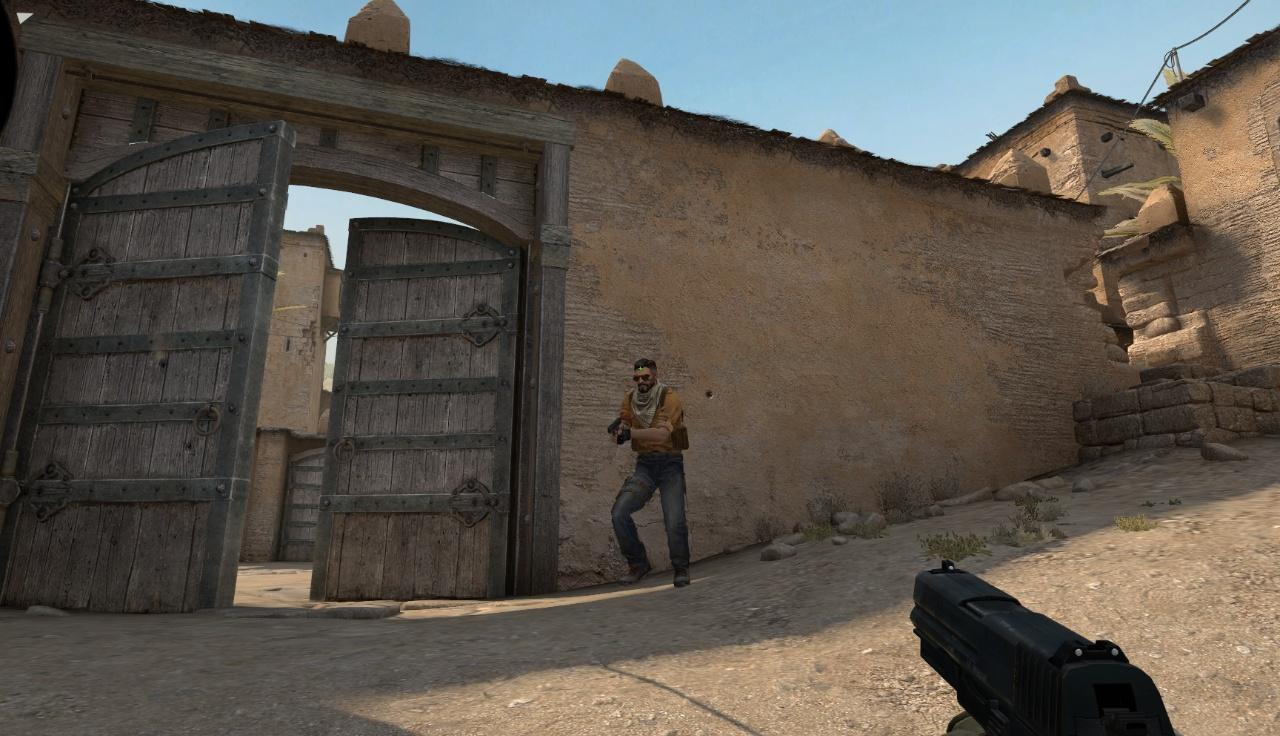pistol: (911, 559, 1209, 736)
tt: (608, 358, 691, 586)
tthead: (633, 360, 658, 393)
